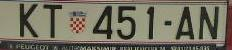-: (162, 20, 174, 26)
1: (145, 7, 156, 41)
4: (94, 5, 113, 39)
5: (117, 6, 137, 40)
A: (175, 8, 195, 42)
K: (19, 2, 39, 38)
N: (199, 5, 220, 42)
T: (43, 2, 61, 39)
